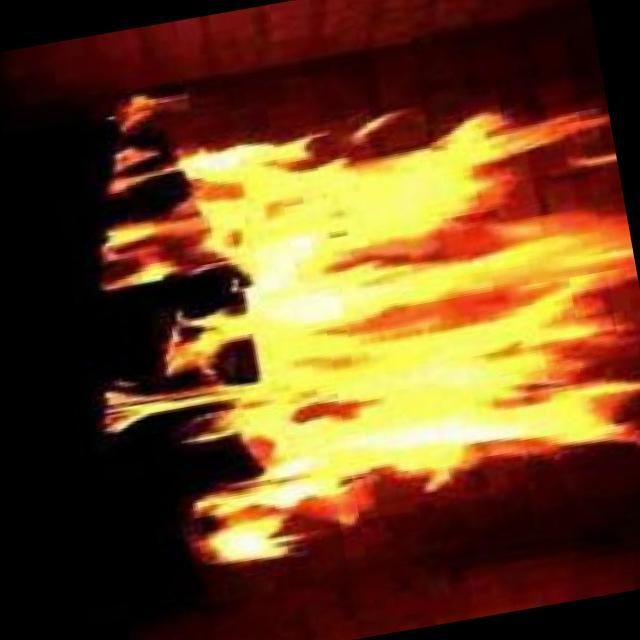Fire: (138, 106, 628, 560)
